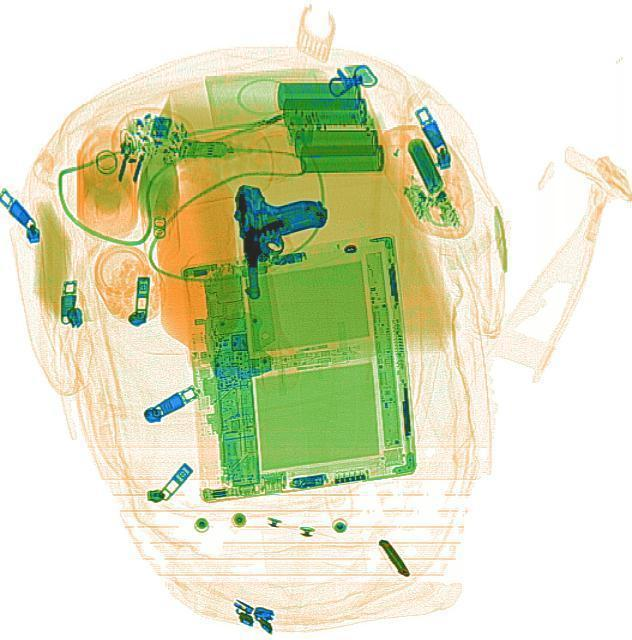Gun: (233, 182, 328, 298)
